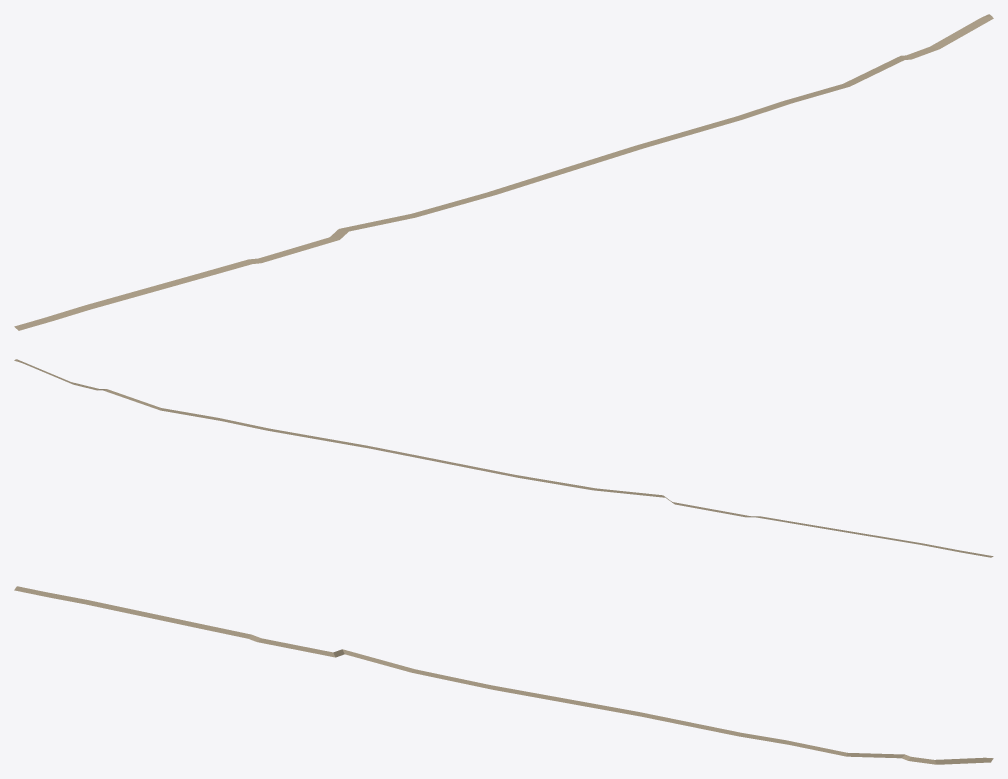
The model's file is farm_-8_-5_track.glb.
The picture shows the model from 3 angles, top to bottom: view 1: azimuth 30°, elevation 25°; view 2: azimuth 150°, elevation 25°; view 3: azimuth 330°, elevation 25°; orthographic projection. The views are drawn at different scales.
Visible parts, largest first — view 1: geometry_0; view 2: geometry_0; view 3: geometry_0.
Part boxes in pixels (x1=…): geometry_0: x1=14, y1=14, x2=993, y2=330; geometry_0: x1=14, y1=359, x2=993, y2=557; geometry_0: x1=14, y1=586, x2=993, y2=764.
Size of the model in its own units: 479 by 11.45 by 52.8.
